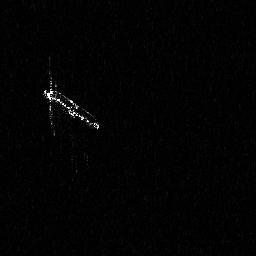ship: (40, 54, 101, 138)
